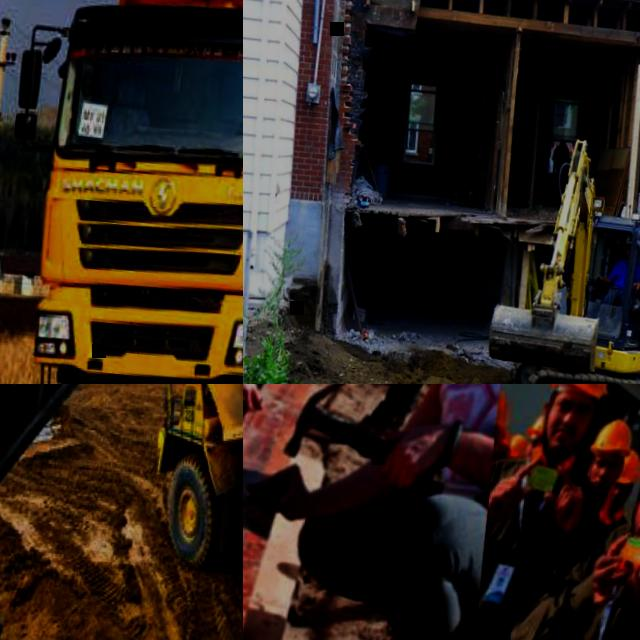Hardhat: (582, 416, 633, 456), (545, 384, 617, 399), (613, 452, 640, 487), (492, 390, 512, 433), (501, 432, 530, 457), (528, 414, 542, 442)
NO-Hardhat: (624, 236, 635, 247)
NO-Mask: (544, 420, 586, 457), (587, 475, 610, 494), (605, 496, 623, 511), (625, 254, 630, 261)
NO-Safety Vest: (472, 452, 578, 640), (522, 549, 640, 640), (417, 384, 501, 494), (593, 507, 624, 548), (612, 258, 640, 290)
Person: (243, 384, 505, 640), (467, 384, 598, 640), (499, 409, 640, 640), (588, 452, 640, 549), (589, 233, 640, 328), (582, 416, 629, 509), (493, 391, 519, 470), (548, 138, 572, 191), (507, 428, 529, 465), (243, 384, 271, 410)
vehicle: (0, 0, 243, 384), (0, 384, 243, 640), (480, 132, 640, 384), (130, 384, 243, 640)
